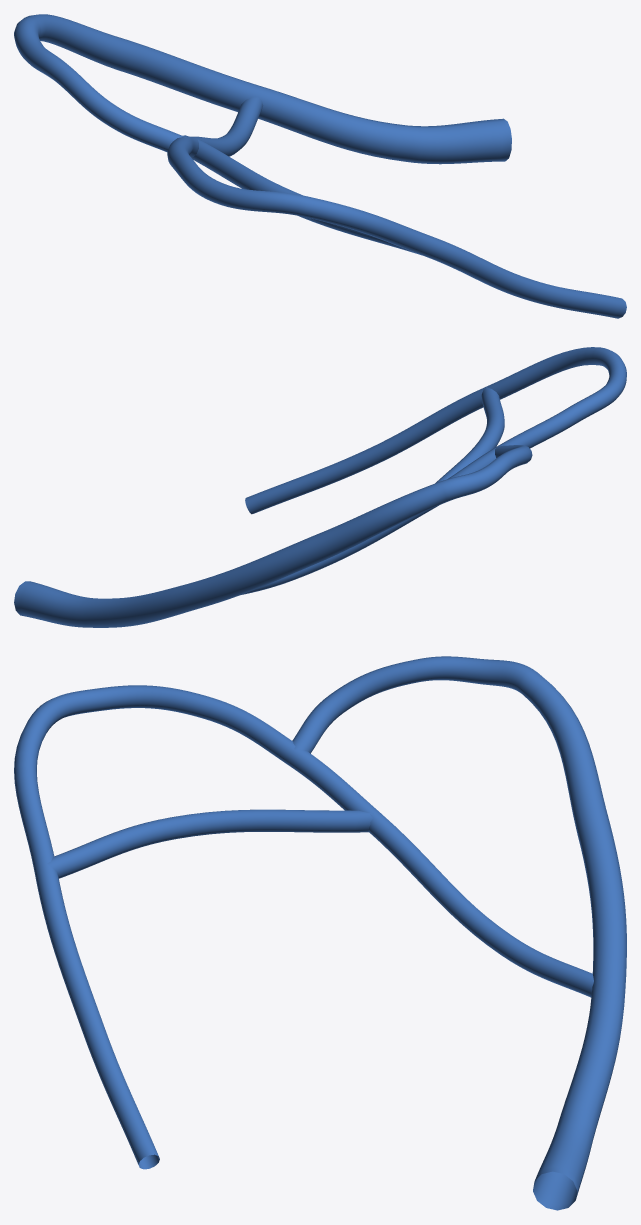
The picture shows the model from 3 angles, top to bottom: view 1: azimuth 30°, elevation 25°; view 2: azimuth 150°, elevation 25°; view 3: azimuth 270°, elevation 25°; orthographic projection. The views are drawn at different scales.
Visible parts, largest first — view 1: 中结肠静脉; view 2: 中结肠静脉; view 3: 中结肠静脉.
Boxes of the visible parts, x1=… form: 中结肠静脉: x1=14, y1=14, x2=626, y2=318; 中结肠静脉: x1=14, y1=347, x2=626, y2=627; 中结肠静脉: x1=14, y1=656, x2=626, y2=1210.
Bounding box in the file's own units: 0.0834 × 0.0411 × 0.0791.
